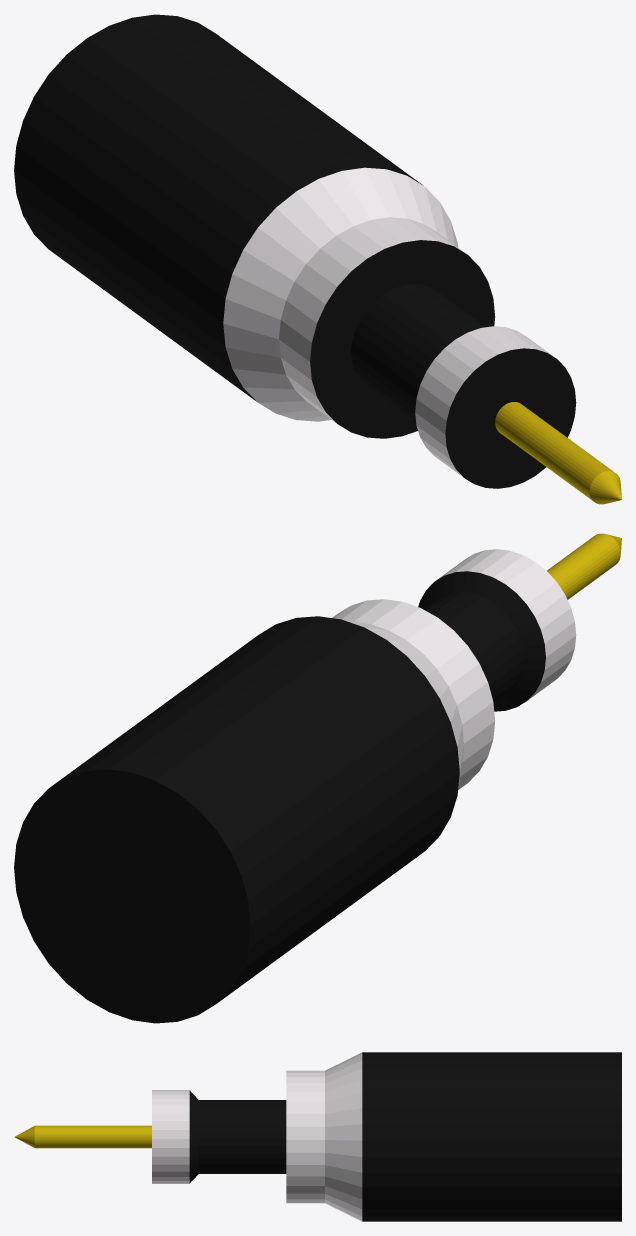
The model's file is bullet_3_bw.fbx.
3 renders of one model, top to bottom at view 1: azimuth 30°, elevation 25°; view 2: azimuth 150°, elevation 25°; view 3: azimuth 270°, elevation 25°, orthographic. The views are drawn at different scales.
Visible parts, largest first — view 1: Bullet3_BW; view 2: Bullet3_BW; view 3: Bullet3_BW.
Boxes of the visible parts, x1,y1,x2,y2 form: Bullet3_BW: [14, 14, 621, 504]; Bullet3_BW: [14, 533, 621, 1023]; Bullet3_BW: [14, 1052, 621, 1221].
Bounding box in the file's own units: 15.03 × 15.03 × 53.87.
